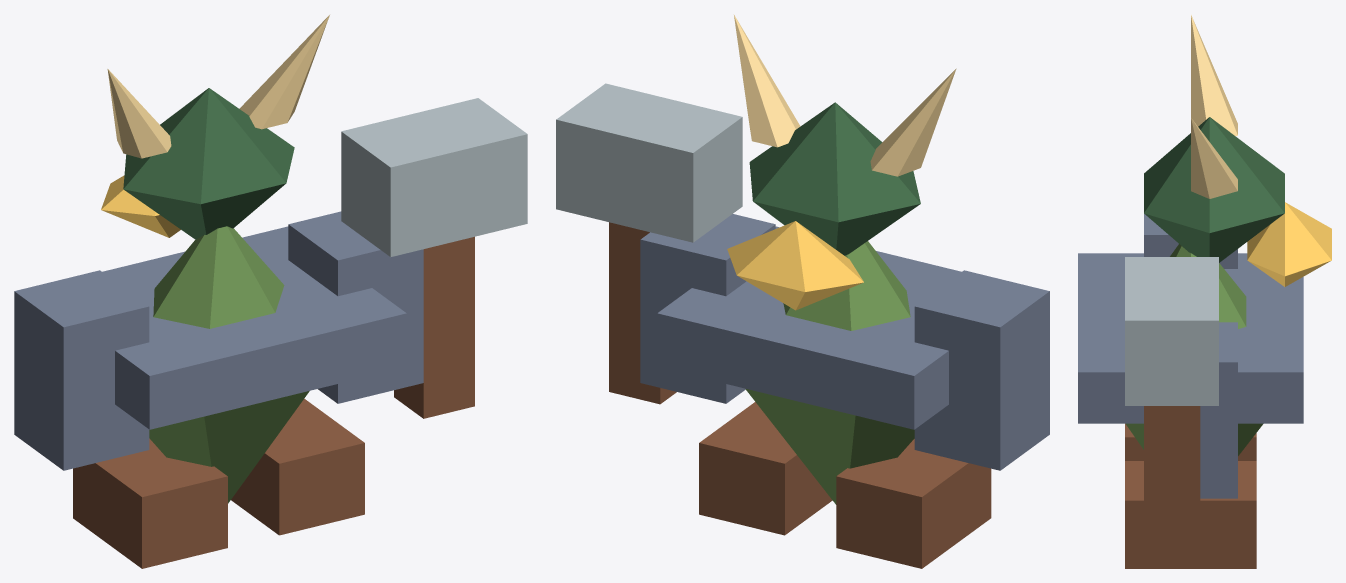
File: crush.obj
The picture shows the model from 3 angles, left to right: view 1: azimuth 30°, elevation 25°; view 2: azimuth 150°, elevation 25°; view 3: azimuth 270°, elevation 25°; orthographic projection. The views are drawn at different scales.
Visible parts, largest first — view 1: crush; view 2: crush; view 3: crush.
Boxes of the visible parts, left/top/right/bottom form: crush: left=14, top=15, right=527, bottom=568; crush: left=556, top=15, right=1049, bottom=568; crush: left=1078, top=15, right=1331, bottom=568.
Size of the model in its own units: 53 by 53 by 27.
